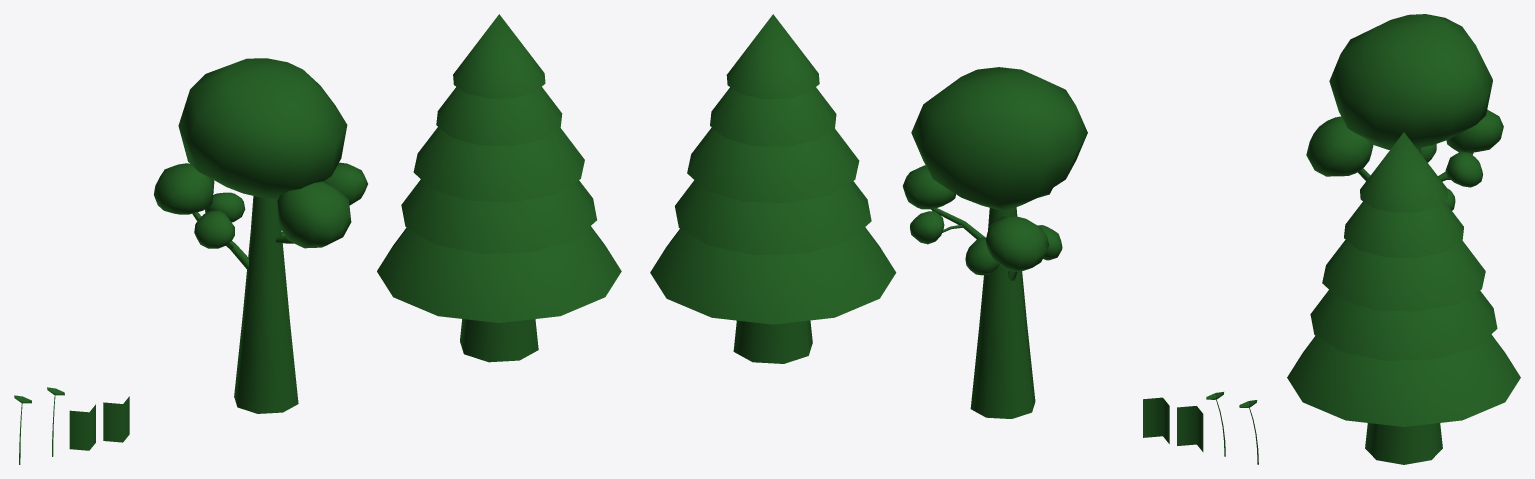
Rendered from Tree_Flower.fbx.
3 views of the same model, side by side, from view 1: azimuth 30°, elevation 25°; view 2: azimuth 150°, elevation 25°; view 3: azimuth 270°, elevation 25° (orthographic). The views are drawn at different scales.
Parts seen in each view (by area): view 1: tree2, tree1, grass1, grass2; view 2: tree2, tree1, grass1, grass2; view 3: tree2, tree1.
Boxes of the visible parts, x1,y1,x2,y2 form: tree2: [377, 14, 621, 362]; tree1: [154, 58, 367, 413]; grass1: [103, 396, 129, 442]; grass2: [69, 404, 95, 450]; tree2: [650, 14, 896, 363]; tree1: [902, 67, 1087, 418]; grass1: [1143, 397, 1169, 443]; grass2: [1177, 406, 1203, 451]; tree2: [1287, 132, 1520, 464]; tree1: [1306, 14, 1503, 210].
Bounding box in the file's own units: 6061 × 3266 × 2183.
